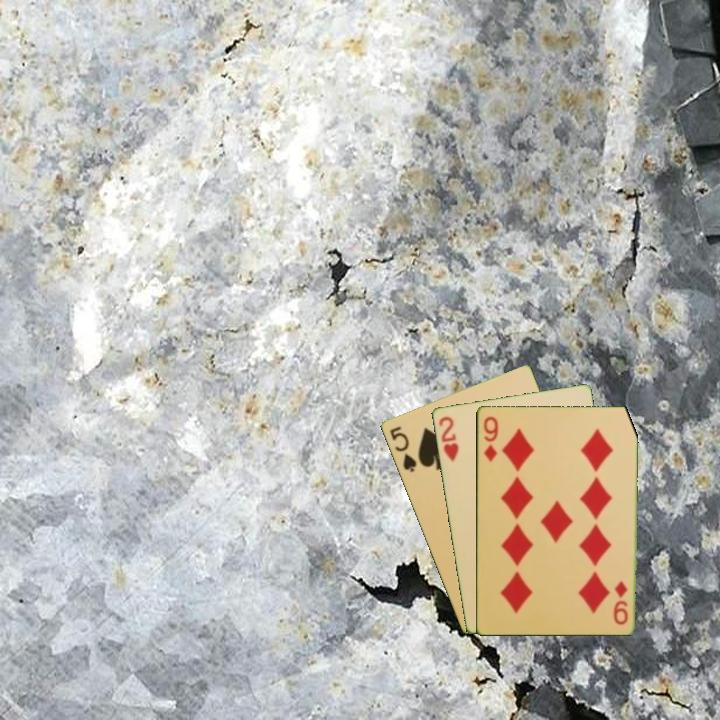2h: (435, 413, 461, 465)
5s: (386, 423, 419, 475)
9d: (480, 413, 501, 464), (611, 577, 630, 627)
